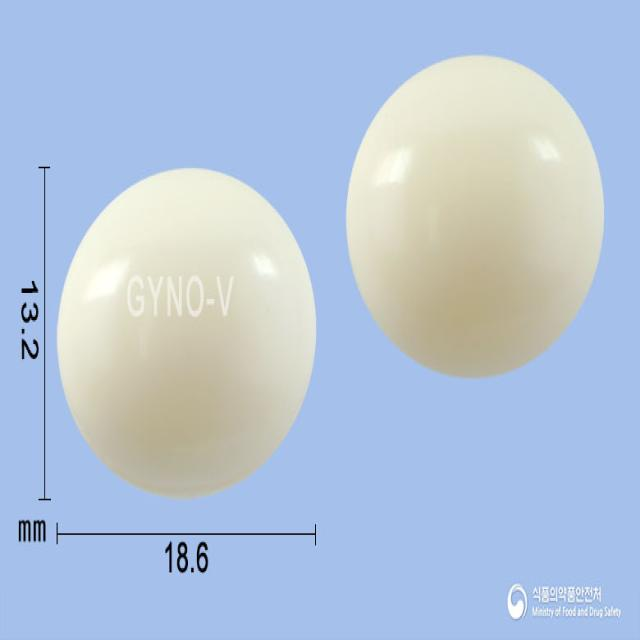Claton: (57, 162, 319, 497)
